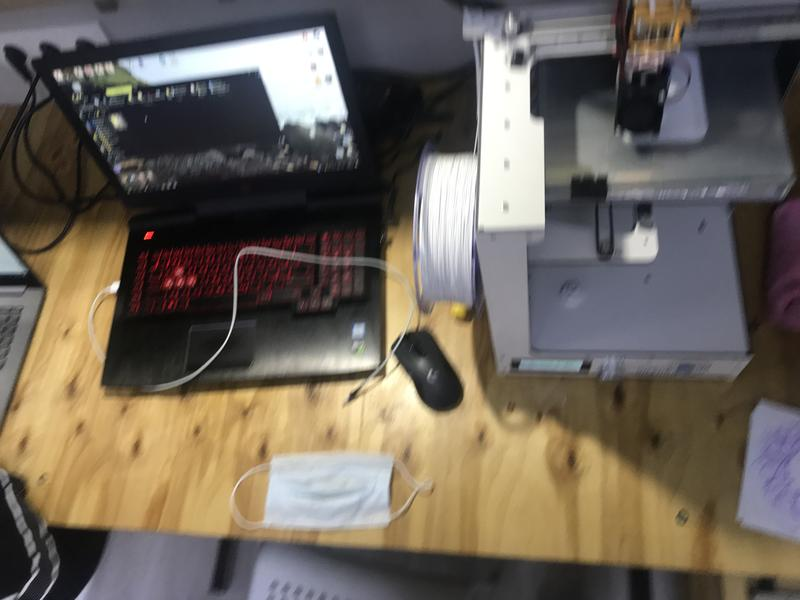medical_mask: (230, 453, 432, 526)
